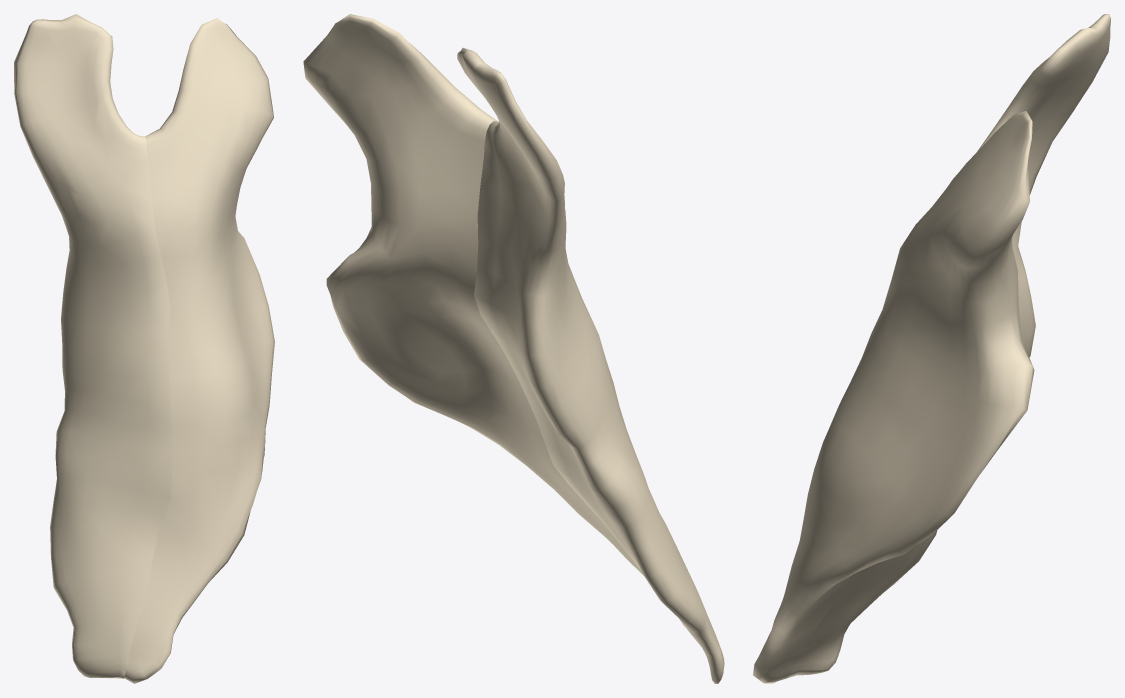
File: thymus.glb
3 renders of one model, left to right at view 1: azimuth 30°, elevation 25°; view 2: azimuth 150°, elevation 25°; view 3: azimuth 270°, elevation 25°, orthographic. The views are drawn at different scales.
Parts seen in each view (by area): view 1: VH_M_thymus_lobe_L, VH_M_thymus_lobe_R; view 2: VH_M_thymus_lobe_R, VH_M_thymus_lobe_L; view 3: VH_M_thymus_lobe_R, VH_M_thymus_lobe_L.
Part boxes in pixels (left/top/right/bottom): VH_M_thymus_lobe_L: left=14, top=14, right=172, bottom=678; VH_M_thymus_lobe_R: left=123, top=18, right=274, bottom=683; VH_M_thymus_lobe_R: left=303, top=14, right=643, bottom=575; VH_M_thymus_lobe_L: left=457, top=48, right=724, bottom=683; VH_M_thymus_lobe_R: left=753, top=111, right=1034, bottom=683; VH_M_thymus_lobe_L: left=787, top=14, right=1110, bottom=678.
Size of the model in its own units: 0.037 by 0.0757 by 0.0351.
